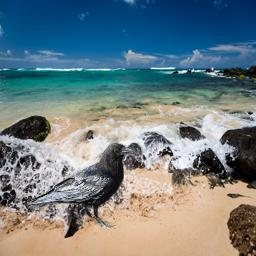Crow: (25, 141, 138, 230)
